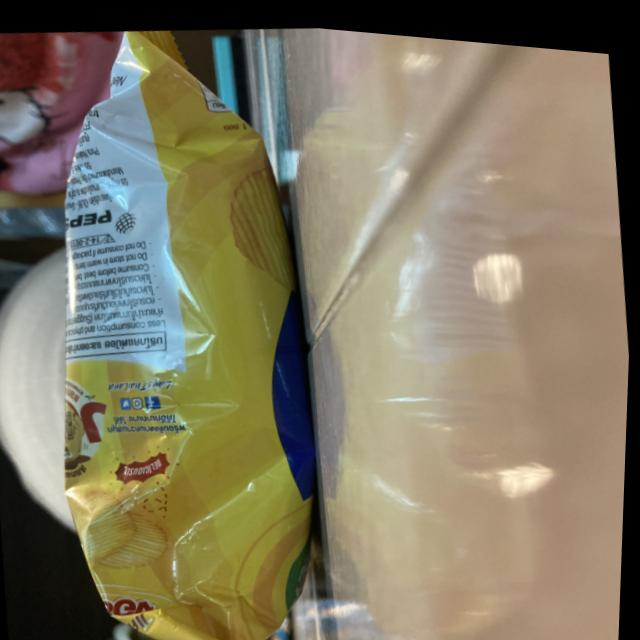LayYellow: (12, 3, 360, 640)
